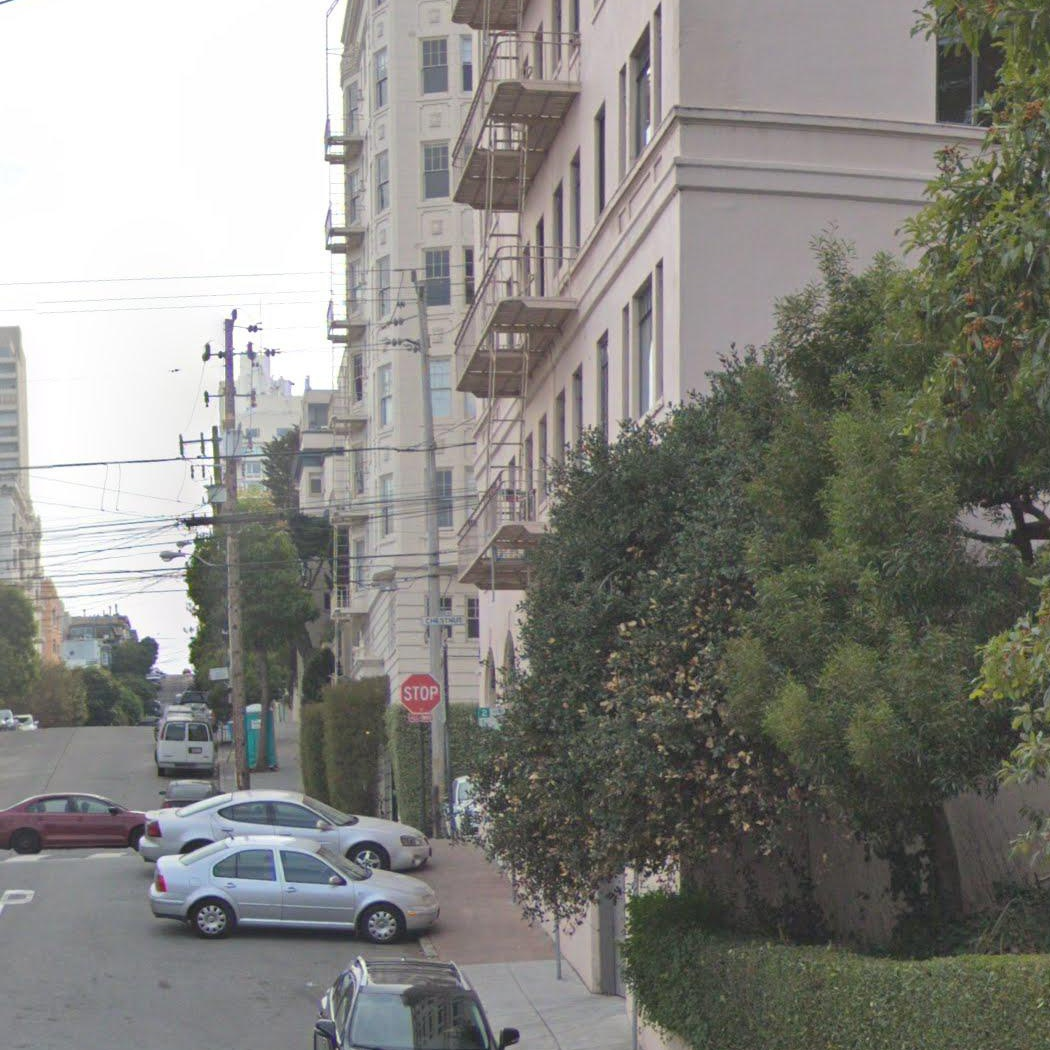2 Hour Parking: (475, 704, 507, 730)
